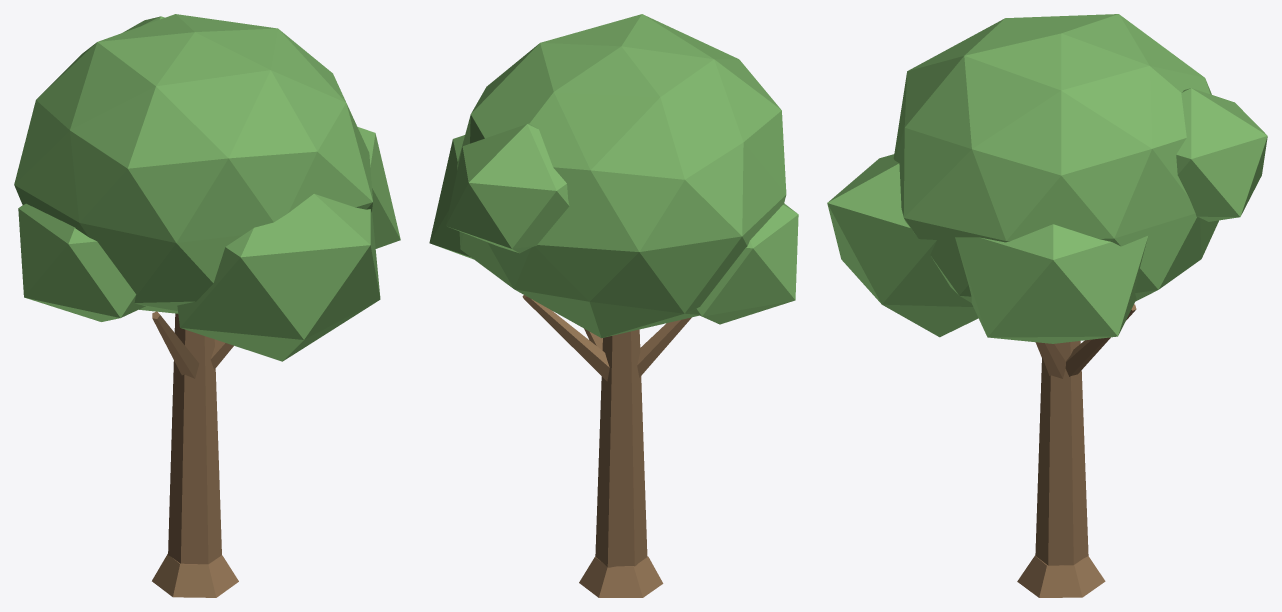
File: tree_oak_c.glb
3 views of the same model, side by side, from view 1: azimuth 30°, elevation 25°; view 2: azimuth 150°, elevation 25°; view 3: azimuth 270°, elevation 25° (orthographic). The views are drawn at different scales.
Parts seen in each view (by area): view 1: tree_oak_c; view 2: tree_oak_c; view 3: tree_oak_c.
Part boxes in pixels (x1,y1,x2,y2): tree_oak_c: (14,14,400,597); tree_oak_c: (429,14,798,597); tree_oak_c: (827,14,1267,597).
Bounding box in the file's own units: 3.54 × 5.3 × 3.86.
